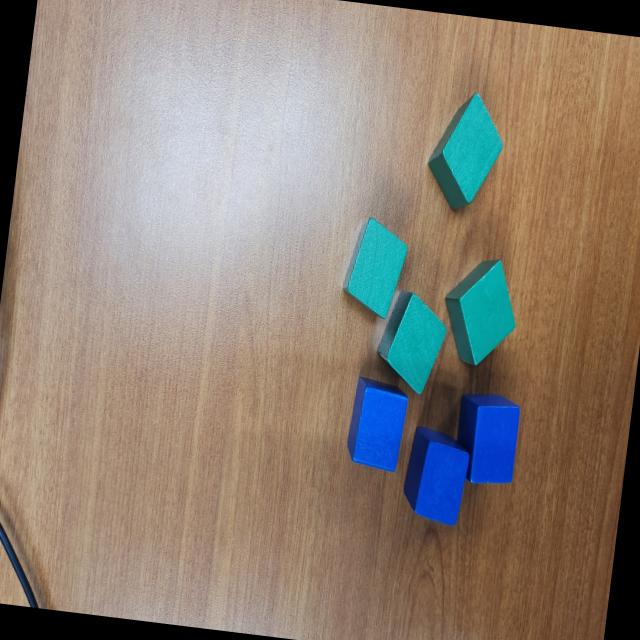blue: (398, 424, 474, 528), (450, 388, 523, 488), (344, 376, 410, 473)
green: (419, 89, 508, 215), (436, 254, 522, 370), (373, 288, 451, 398), (338, 212, 414, 320)
